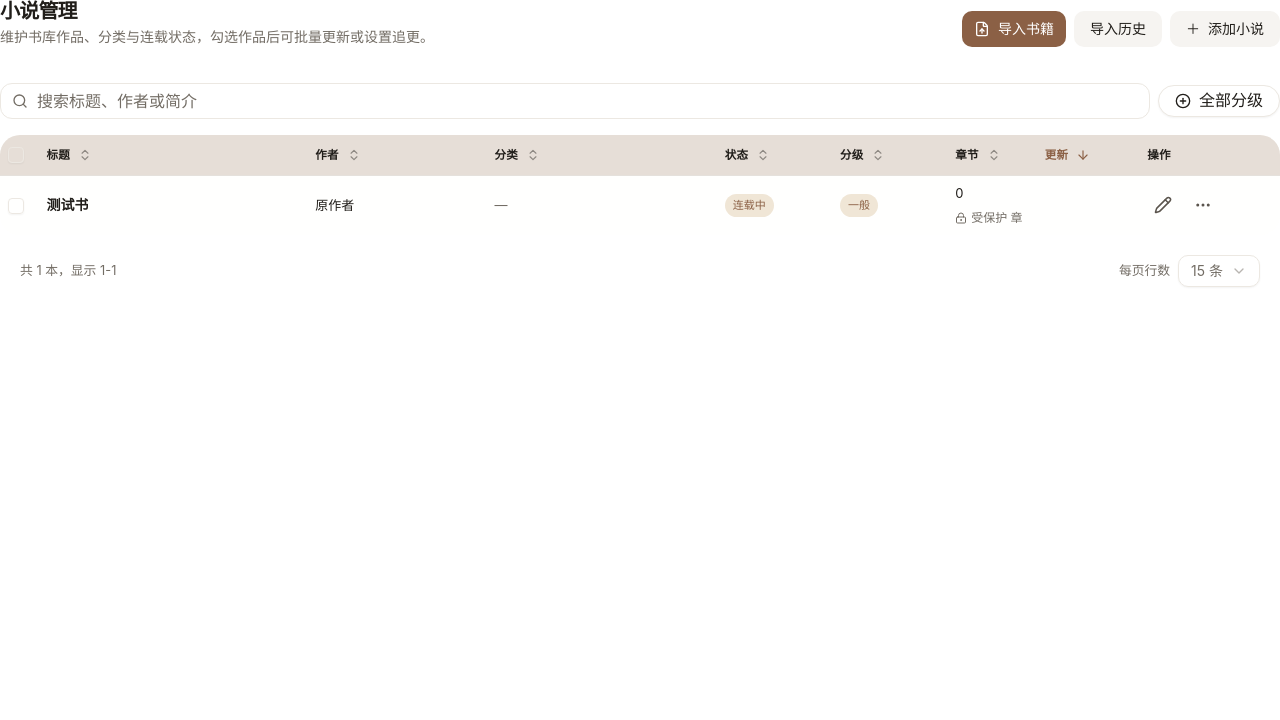
Test: 勾选作品后可以打开批量追更设置，范围是已选作品
The image size is (1280, 720).
Click the checkbox named "选择小说：测试书": coordinates (16, 206) x1=8 y1=198 x2=24 y2=214
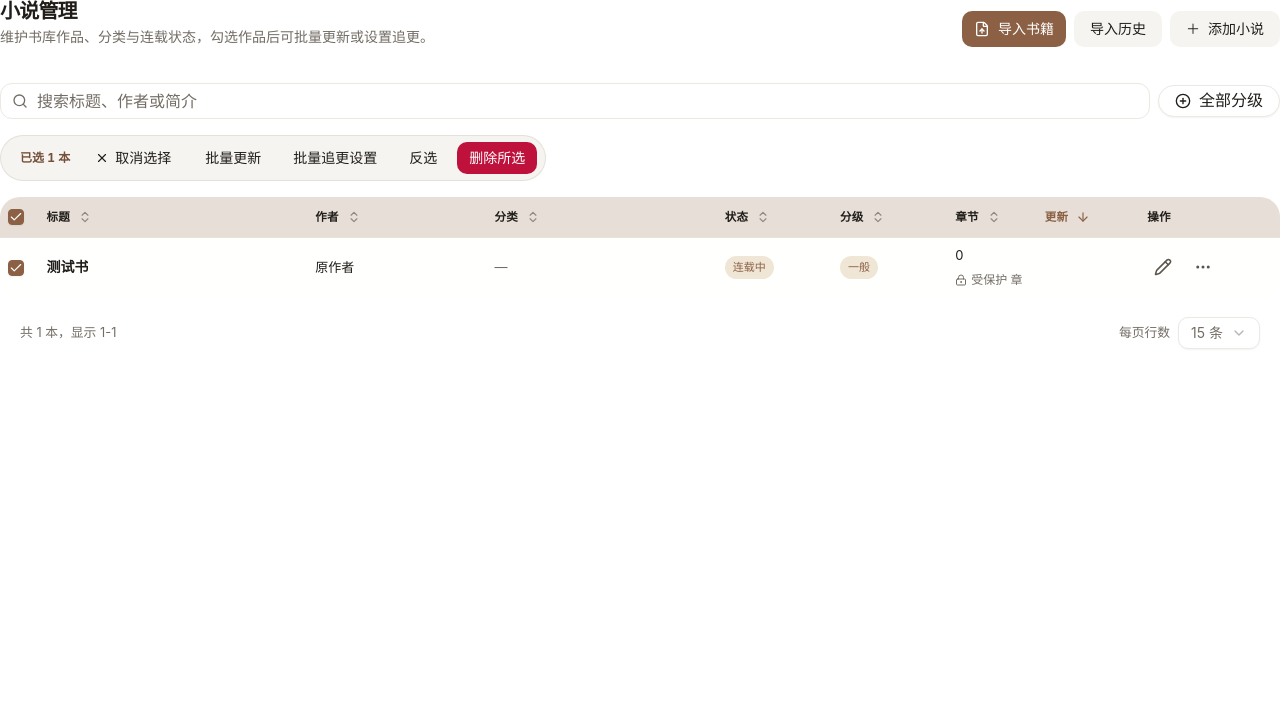
Click the button "批量追更设置": coordinates (335, 158) x1=281 y1=142 x2=389 y2=174
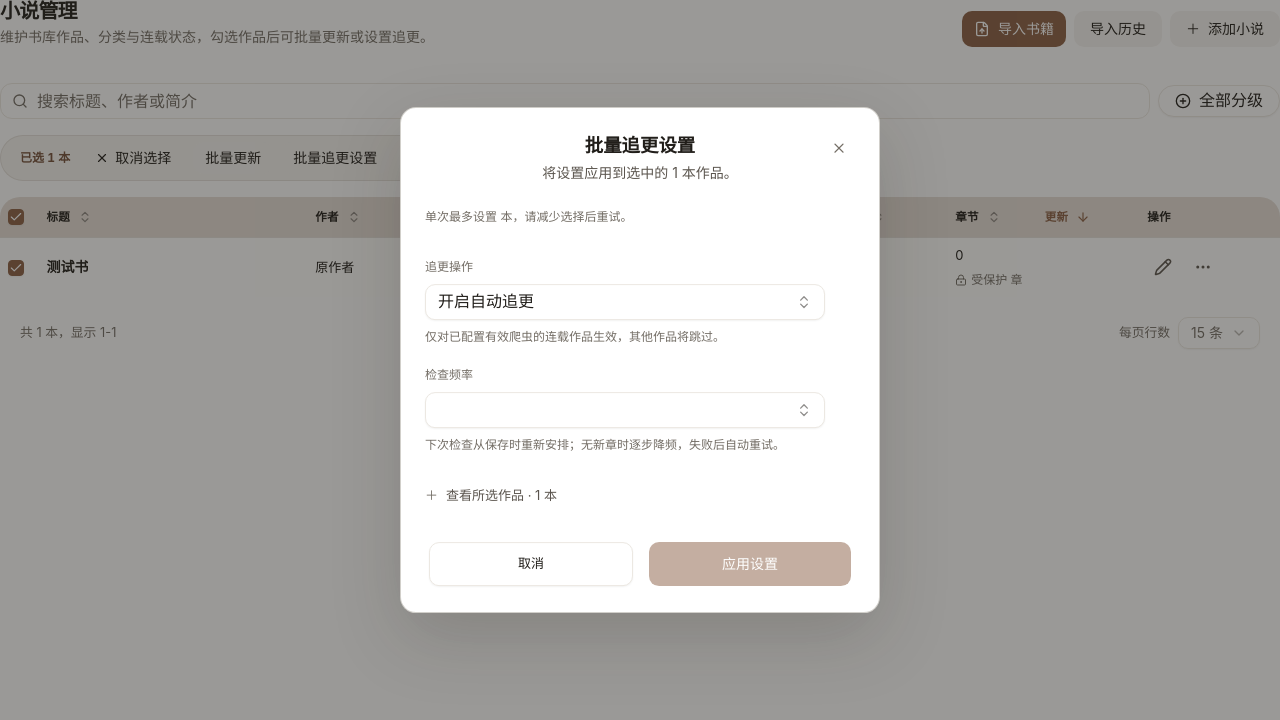
Now the heading "批量追更设置" is shown, box x1=585 y1=134 x2=695 y2=156
Now the text "将设置应用到选中的 1 本作品。" is shown, box x1=542 y1=162 x2=738 y2=184
